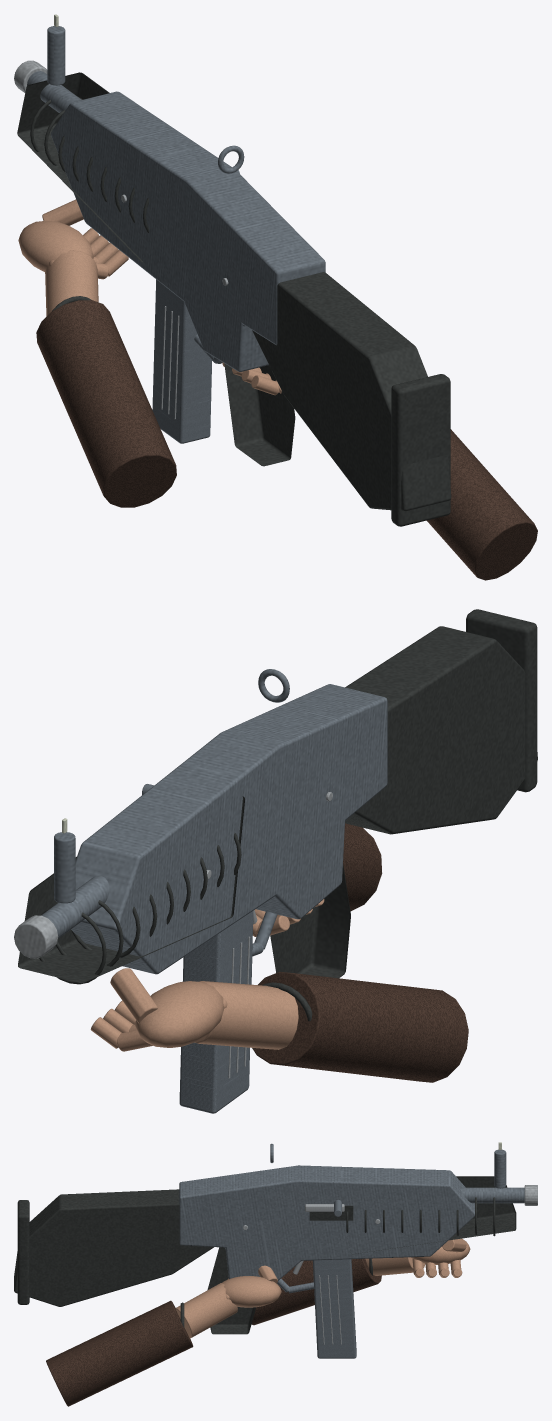
The picture shows the model from 3 angles, top to bottom: view 1: azimuth 30°, elevation 25°; view 2: azimuth 150°, elevation 25°; view 3: azimuth 270°, elevation 25°; orthographic projection. The views are drawn at different scales.
Visible parts, largest first — view 1: mp5__BODY, mp5__HAND_L, mp5__HAND_R, mp5__MAGAZINE; view 2: mp5__BODY, mp5__HAND_L, mp5__MAGAZINE, mp5__HAND_R; view 3: mp5__BODY, mp5__HAND_R, mp5__HAND_L, mp5__MAGAZINE, mp5__BOLT.
Part boxes in pixels (x1,y1,x2,y2): mp5__BODY: (14, 14, 451, 526); mp5__HAND_L: (18, 199, 176, 507); mp5__HAND_R: (222, 362, 537, 580); mp5__MAGAZINE: (152, 279, 212, 443); mp5__BODY: (14, 609, 537, 984); mp5__HAND_L: (90, 968, 468, 1082); mp5__MAGAZINE: (179, 911, 253, 1113); mp5__HAND_R: (253, 823, 382, 936); mp5__BODY: (14, 1142, 537, 1334); mp5__HAND_R: (46, 1265, 281, 1406); mp5__HAND_L: (251, 1238, 470, 1325); mp5__MAGAZINE: (312, 1259, 356, 1358); mp5__BOLT: (305, 1200, 344, 1216).
Size of the model in its own units: 0.3294 by 0.3781 by 0.7916.
6 materials, 6 textured.
